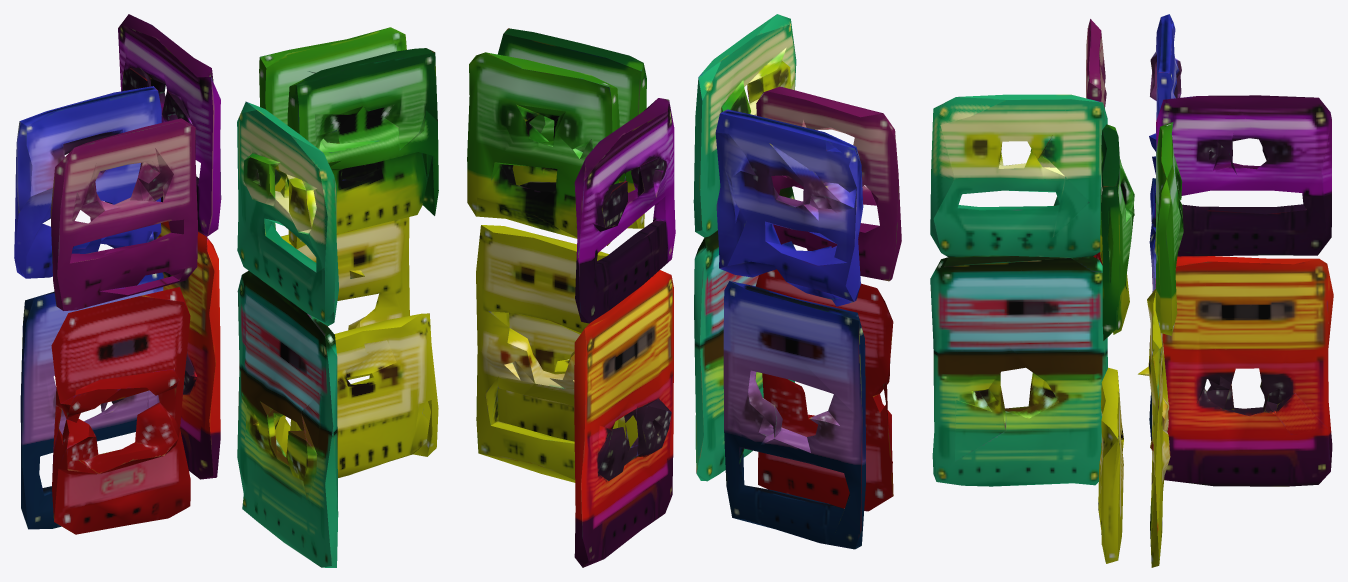
File: cassette-wall.glb
The picture shows the model from 3 angles, left to right: view 1: azimuth 30°, elevation 25°; view 2: azimuth 150°, elevation 25°; view 3: azimuth 270°, elevation 25°; orthographic projection. The views are drawn at different scales.
Visible parts, largest first — view 1: geometry_0; view 2: geometry_0; view 3: geometry_0.
Part boxes in pixels (x1=…): geometry_0: x1=14, y1=14, x2=438, y2=567; geometry_0: x1=467, y1=14, x2=901, y2=567; geometry_0: x1=930, y1=14, x2=1333, y2=567.
Bounding box in the file's own units: 0.9899 × 1 × 0.9367.
1 material, 1 textured.
